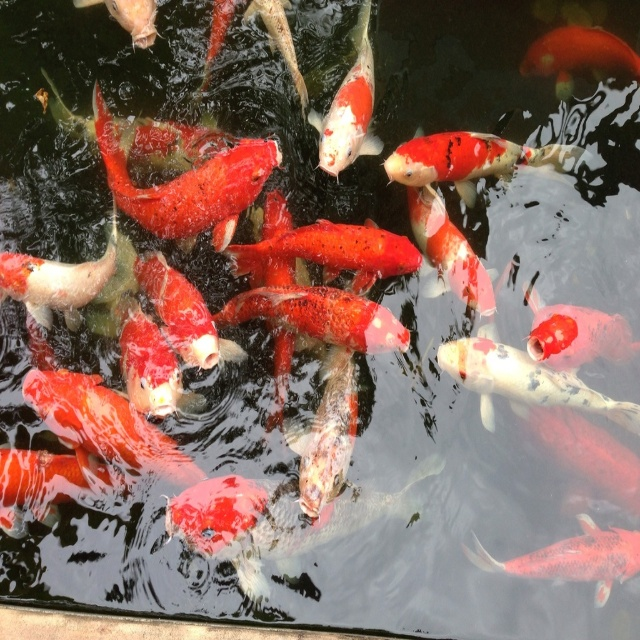Goldfish: (382, 128, 588, 208)
